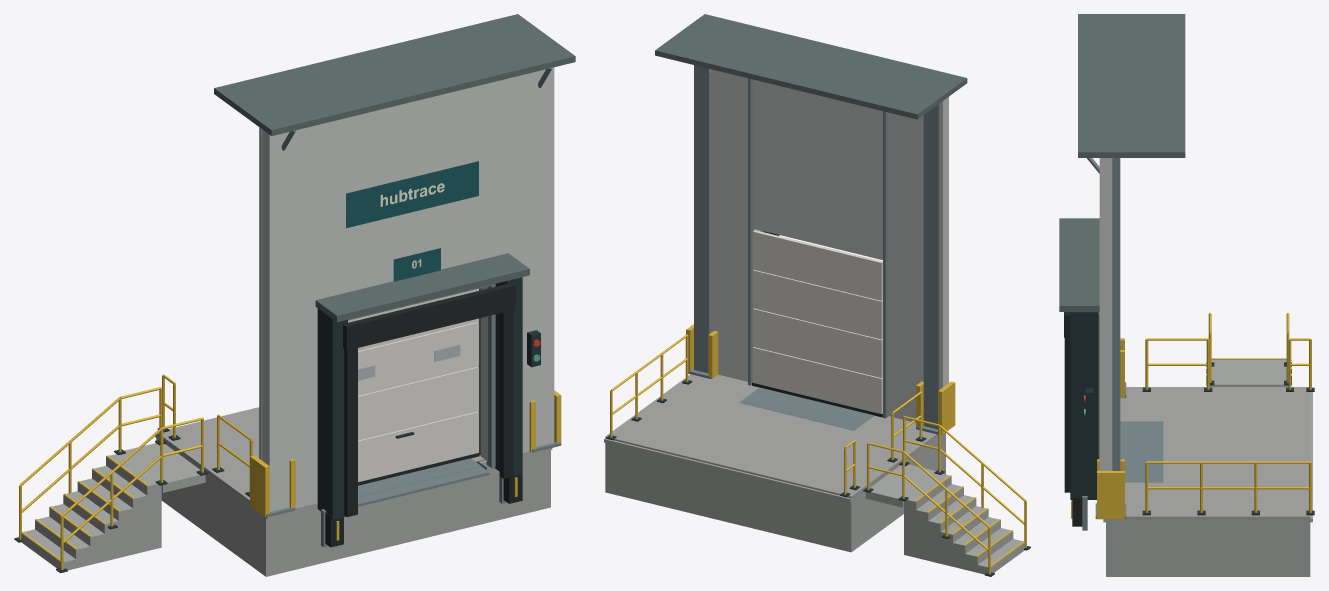
File: loading-dock-module.glb
3 renders of one model, left to right at view 1: azimuth 30°, elevation 25°; view 2: azimuth 150°, elevation 25°; view 3: azimuth 270°, elevation 25°, orthographic. The views are drawn at different scales.
Visible parts, largest first — view 1: dock_front_frame_insulated-light-cladding, loading-dock-module_cast-concrete, dock_weather_roof_standing-seam-roof, shutter_01_insulated-panel-ivory, dock_front_frame_dock-seal-EPDM, dock_front_frame_anthracite-coated-steel, loading-dock-module_safety-yellow, dock_front_frame_standing-seam-roof, dock_front_frame_galvanized-structural-steel, dock_front_frame_dock-brand-ink, loading-dock-module_power-floated-concrete, loading-dock-module_galvanized-structural-steel (+1 smaller); view 2: dock_front_frame_insulated-light-cladding, loading-dock-module_cast-concrete, shutter_01_insulated-panel-ivory, loading-dock-module_power-floated-concrete, dock_weather_roof_standing-seam-roof, loading-dock-module_galvanized-structural-steel, loading-dock-module_safety-yellow, dock_front_frame_galvanized-structural-steel; view 3: loading-dock-module_power-floated-concrete, dock_weather_roof_standing-seam-roof, loading-dock-module_cast-concrete, dock_front_frame_anthracite-coated-steel, loading-dock-module_safety-yellow, dock_front_frame_insulated-light-cladding, dock_front_frame_standing-seam-roof, dock_front_frame_galvanized-structural-steel, loading-dock-module_galvanized-structural-steel, dock_front_frame_dock-seal-EPDM, loading-dock-module_anthracite-coated-steel.
Boxes of the visible parts, x1,y1,x2,y2 form: dock_front_frame_insulated-light-cladding: (262,67,554,511); loading-dock-module_cast-concrete: (21,435,552,576); dock_weather_roof_standing-seam-roof: (214,14,575,135); shutter_01_insulated-panel-ivory: (348,288,478,482); dock_front_frame_dock-seal-EPDM: (325,283,522,547); dock_front_frame_anthracite-coated-steel: (317,277,540,519); loading-dock-module_safety-yellow: (19,374,561,569); dock_front_frame_standing-seam-roof: (315,253,529,322); dock_front_frame_galvanized-structural-steel: (321,284,506,547); dock_front_frame_dock-brand-ink: (346,161,478,228); loading-dock-module_power-floated-concrete: (157,407,485,504); loading-dock-module_galvanized-structural-steel: (259,127,561,517); dock_front_frame_insulated-light-cladding: (710,69,948,422); loading-dock-module_cast-concrete: (604,432,1024,574); shutter_01_insulated-panel-ivory: (752,230,882,413); loading-dock-module_power-floated-concrete: (605,374,938,498); dock_weather_roof_standing-seam-roof: (655,14,967,119); loading-dock-module_galvanized-structural-steel: (688,65,941,434); loading-dock-module_safety-yellow: (610,324,1026,574); dock_front_frame_galvanized-structural-steel: (739,78,888,430); loading-dock-module_power-floated-concrete: (1107,387,1310,520); dock_weather_roof_standing-seam-roof: (1078,14,1185,157); loading-dock-module_cast-concrete: (1103,359,1312,576); dock_front_frame_anthracite-coated-steel: (1070,312,1098,499); loading-dock-module_safety-yellow: (1097,313,1311,519); dock_front_frame_insulated-light-cladding: (1099,158,1112,470); dock_front_frame_standing-seam-roof: (1059,218,1099,311); dock_front_frame_galvanized-structural-steel: (1082,312,1163,530); loading-dock-module_galvanized-structural-steel: (1095,158,1126,518); dock_front_frame_dock-seal-EPDM: (1064,312,1082,526); loading-dock-module_anthracite-coated-steel: (1142,362,1314,515).
Size of the model in its own units: 9.4 by 9.26 by 4.99.
6 materials, 4 textured.
